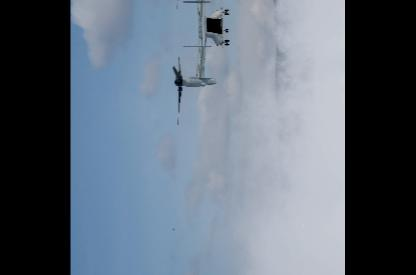Tornado: (170, 0, 229, 123)
